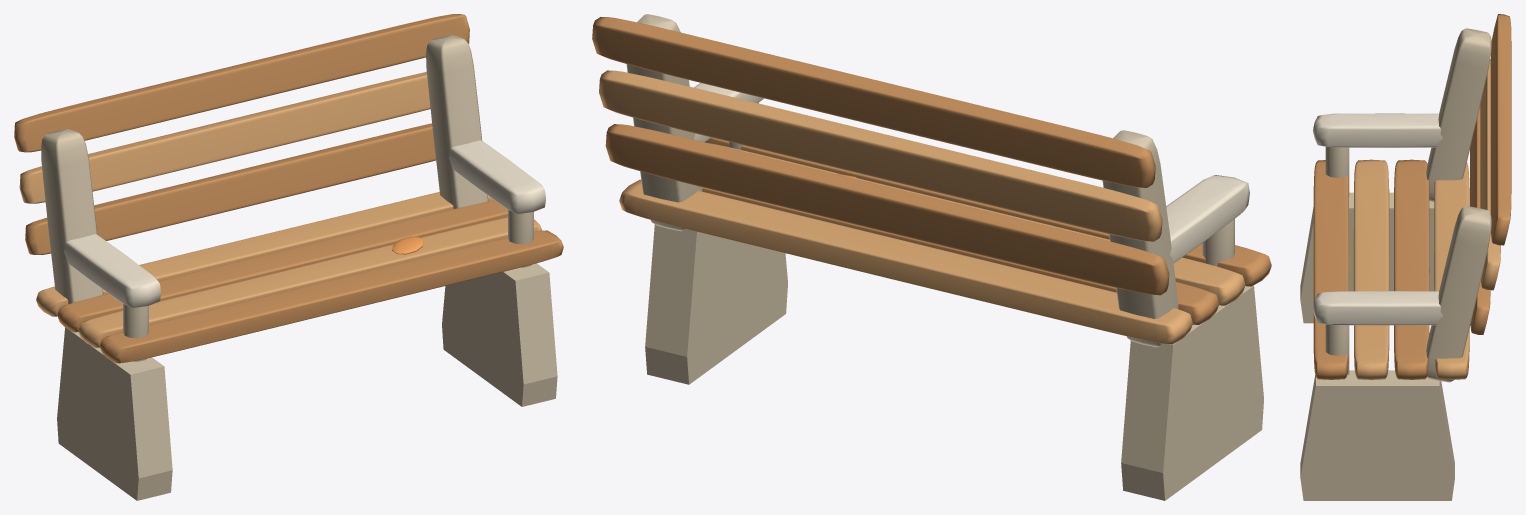
Rendered from bench.glb.
3 renders of one model, left to right at view 1: azimuth 30°, elevation 25°; view 2: azimuth 150°, elevation 25°; view 3: azimuth 270°, elevation 25°, orthographic. The views are drawn at different scales.
Visible parts, largest first — view 1: bench; view 2: bench; view 3: bench.
Boxes of the visible parts, x1,y1,x2,y2 form: bench: [14, 14, 563, 500]; bench: [592, 14, 1271, 500]; bench: [1300, 14, 1511, 500].
Size of the model in its own units: 1.6 by 1.04 by 0.6829.
Materials: 1 (1 with a texture image).
